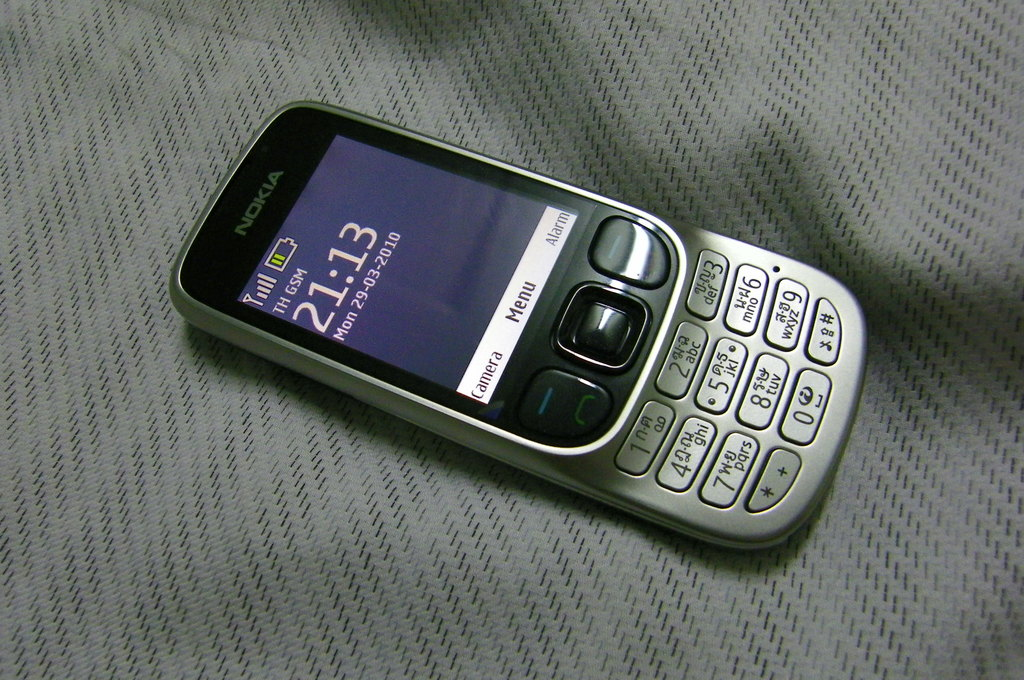mobile phone: (166, 100, 865, 546)
